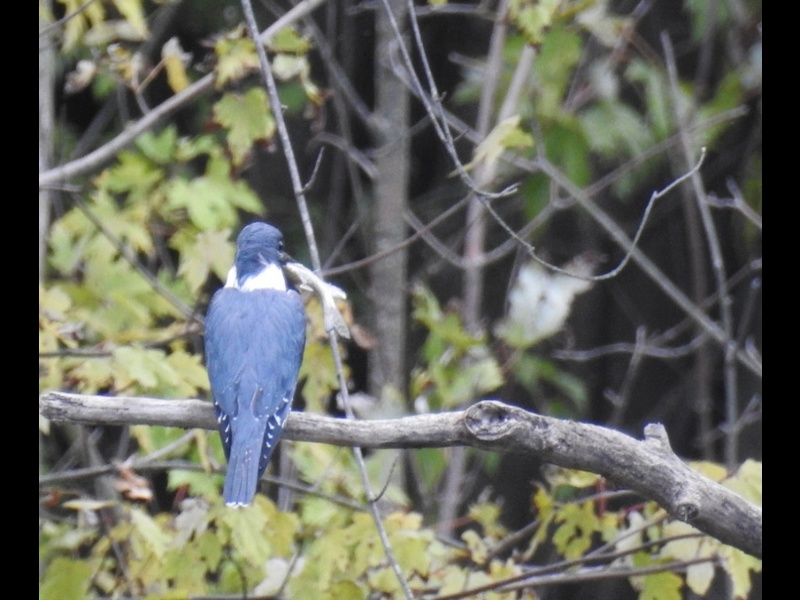kingfisher: (204, 218, 316, 509)
